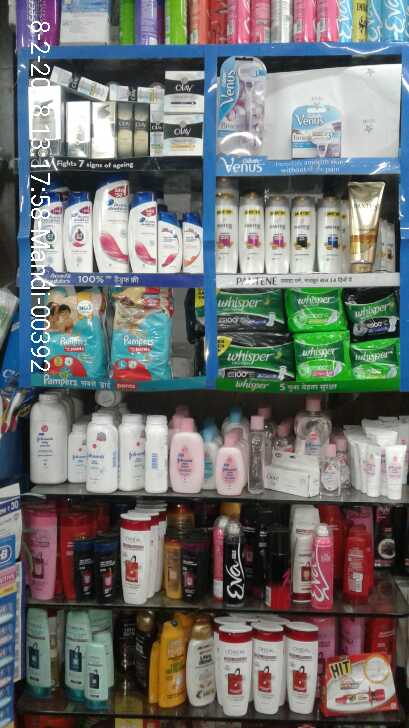venus: (220, 59, 263, 163), (290, 105, 342, 158)
